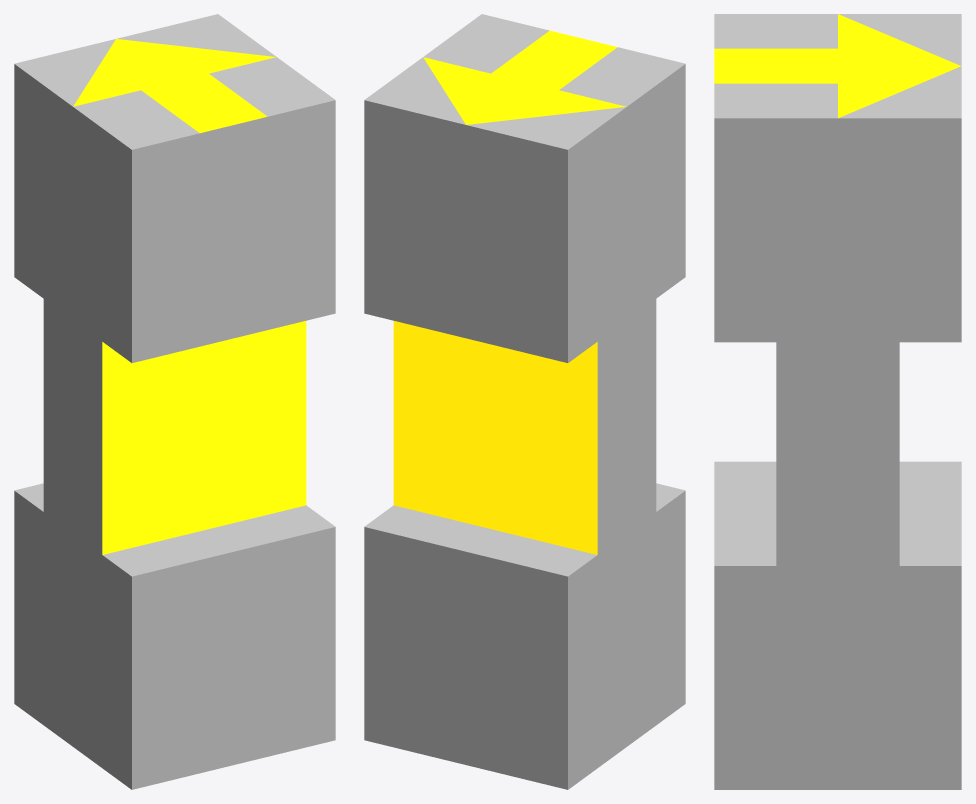
The model's file is inoutY.glb.
The picture shows the model from 3 angles, left to right: view 1: azimuth 30°, elevation 25°; view 2: azimuth 150°, elevation 25°; view 3: azimuth 270°, elevation 25°; orthographic projection. The views are drawn at different scales.
Parts seen in each view (by area): view 1: Cube; view 2: Cube; view 3: Cube.
Part boxes in pixels (bbox=[...]): Cube: bbox=[14, 14, 335, 789]; Cube: bbox=[364, 14, 685, 789]; Cube: bbox=[714, 14, 961, 789].
Size of the model in its own units: 1 by 3 by 1.
